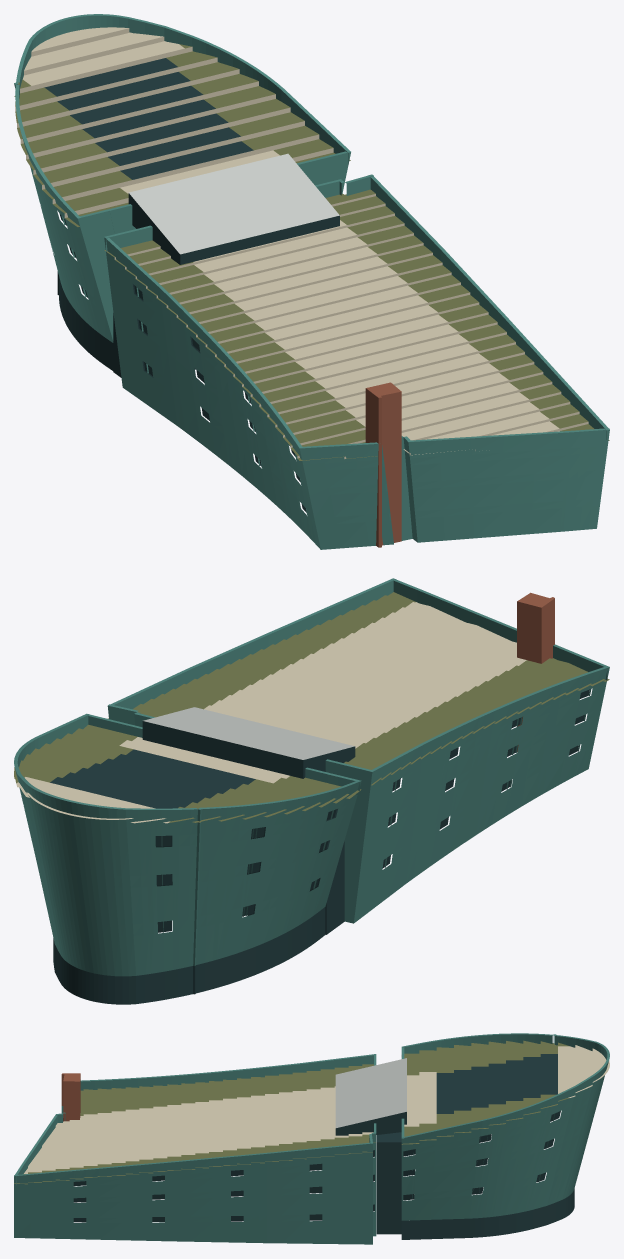
The model's file is nemo-science-museum-far.glb.
3 renders of one model, top to bottom at view 1: azimuth 30°, elevation 25°; view 2: azimuth 150°, elevation 25°; view 3: azimuth 270°, elevation 25°, orthographic. The views are drawn at different scales.
Visible parts, largest first — view 1: nemo-science-museum-0-copper, nemo-science-museum-0-terrace, nemo-science-museum-0-planting, nemo-science-museum-0-glass, nemo-science-museum-0-roof, nemo-science-museum-0-brick; view 2: nemo-science-museum-0-copper, nemo-science-museum-0-terrace, nemo-science-museum-0-glass, nemo-science-museum-0-planting, nemo-science-museum-0-roof, nemo-science-museum-0-brick; view 3: nemo-science-museum-0-copper, nemo-science-museum-0-terrace, nemo-science-museum-0-glass, nemo-science-museum-0-planting, nemo-science-museum-0-roof, nemo-science-museum-0-brick.
Part boxes in pixels (x1,y1,x2,y2): nemo-science-museum-0-copper: (14,14,609,549); nemo-science-museum-0-terrace: (15,27,588,458); nemo-science-museum-0-planting: (14,44,609,460); nemo-science-museum-0-glass: (44,58,339,512); nemo-science-museum-0-roof: (129,153,339,254); nemo-science-museum-0-brick: (365,382,401,547); nemo-science-museum-0-copper: (14,578,609,976); nemo-science-museum-0-terrace: (16,602,526,823); nemo-science-museum-0-glass: (50,689,589,1004); nemo-science-museum-0-planting: (14,592,609,822); nemo-science-museum-0-roof: (143,707,354,759); nemo-science-museum-0-brick: (517,592,554,751); nemo-science-museum-0-copper: (14,1033,609,1244); nemo-science-museum-0-terrace: (24,1045,609,1173); nemo-science-museum-0-glass: (63,1054,574,1239); nemo-science-museum-0-planting: (14,1040,569,1184); nemo-science-museum-0-roof: (335,1058,406,1127); nemo-science-museum-0-brick: (61,1073,80,1121).
Bounding box in the file's own units: 44.73 × 32.56 × 117.
